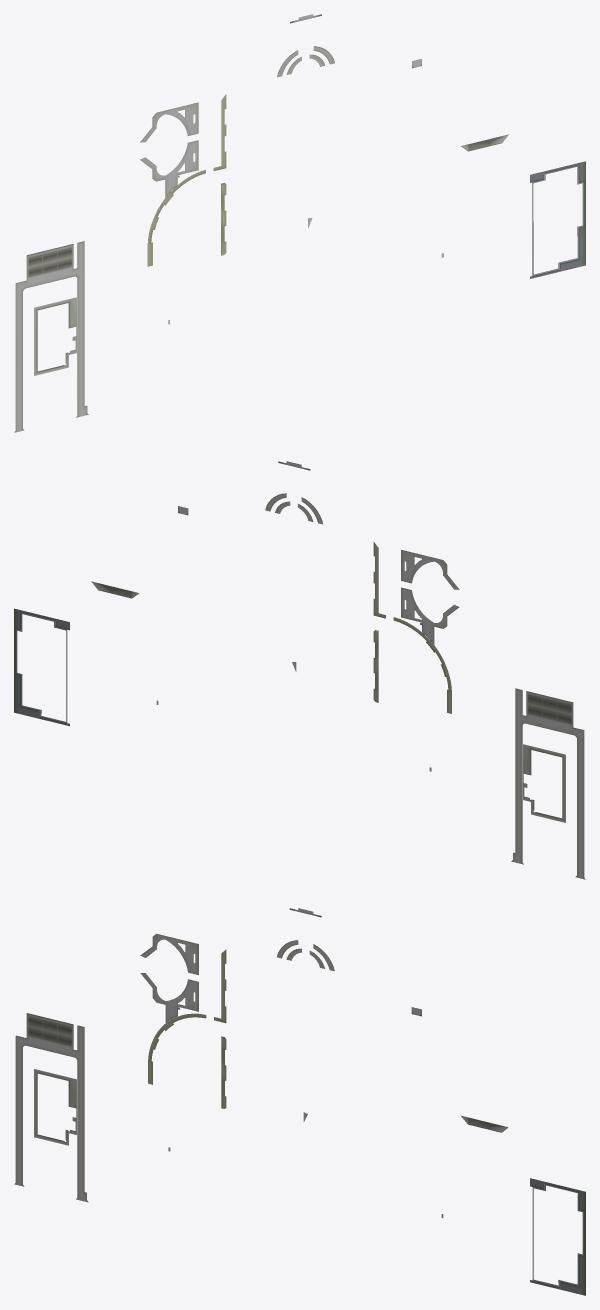
File: SM_000305_merge_concrete01__001.fbx
3 renders of one model, top to bottom at view 1: azimuth 30°, elevation 25°; view 2: azimuth 150°, elevation 25°; view 3: azimuth 330°, elevation 25°, orthographic.
Parts seen in each view (by area): view 1: SM_000305.001; view 2: SM_000305.001; view 3: SM_000305.001.
Part boxes in pixels (<box>): SM_000305.001: <box>14,14,585,432</box>; SM_000305.001: <box>14,461,585,879</box>; SM_000305.001: <box>14,908,585,1295</box>.
Size of the model in its own units: 310 by 179 by 2.22.
